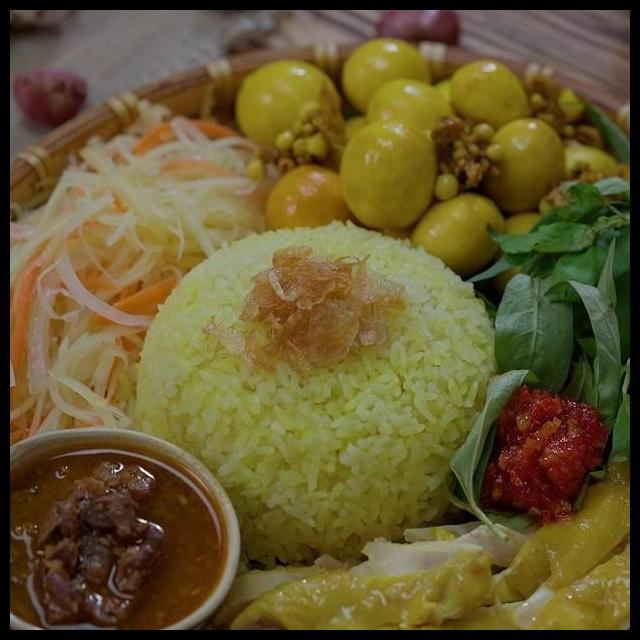com: (129, 214, 506, 571)
com ga: (15, 33, 630, 630)
rau ram: (438, 169, 630, 544)
thit ga: (209, 452, 630, 630)
trung: (333, 115, 444, 234), (230, 55, 346, 153), (478, 112, 573, 211), (404, 188, 505, 273), (335, 33, 435, 113), (360, 71, 462, 148), (445, 53, 538, 137), (260, 161, 354, 239)
